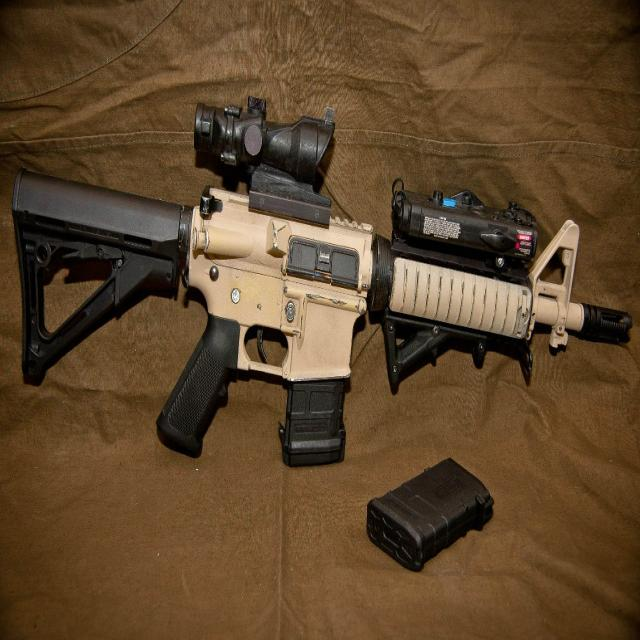firearm: (12, 98, 634, 464)
